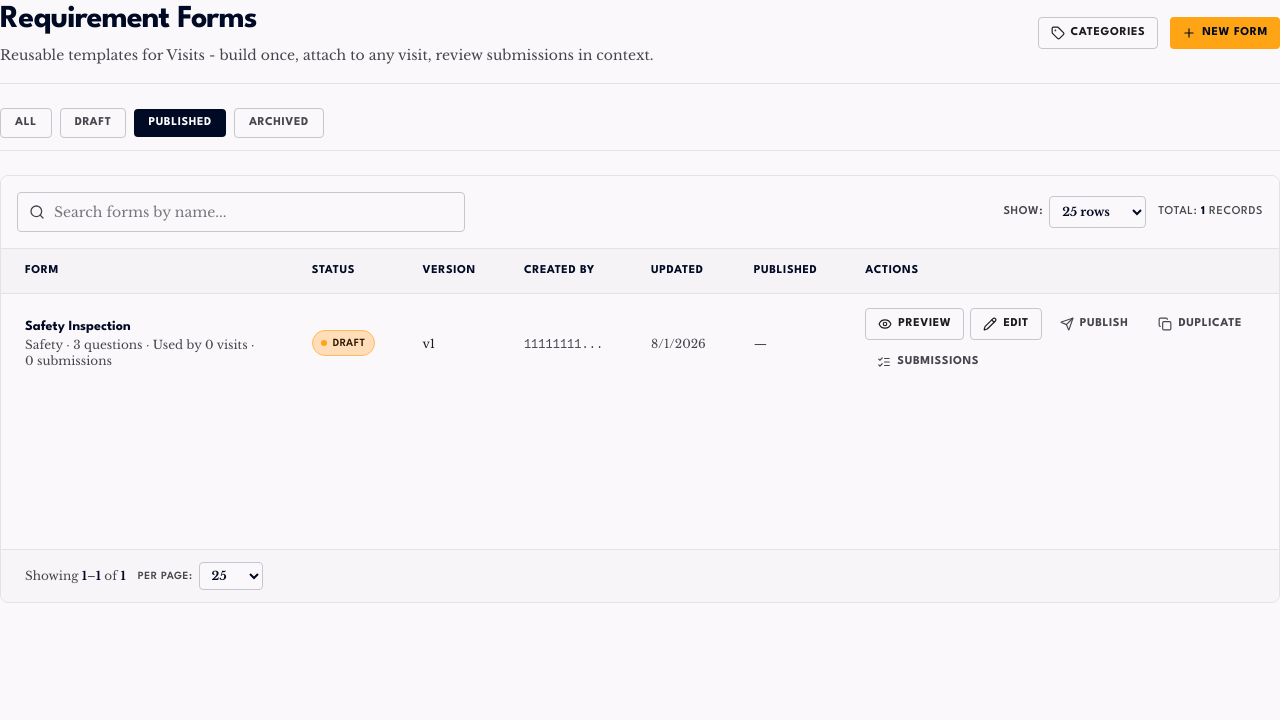
it: FormsPage - Form Template Management › creates a new category from the categories modal
The image size is (1280, 720).
Expected: the text "Safety Inspection" is shown, [25,320,131,333]
Click the button "Categories".
click(1098, 33)  # box [1038,17,1158,49]
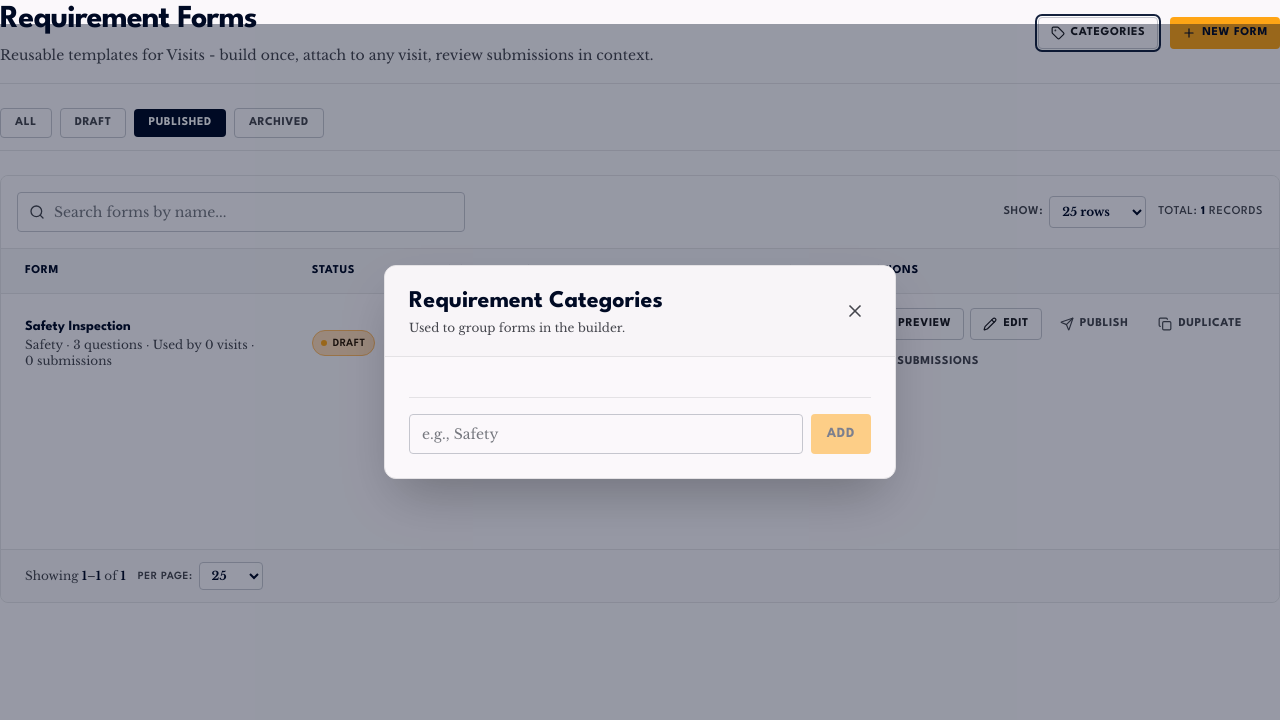
Expected: the heading "Requirement Categories" is shown, [409,286,663,318]
Type "New Category" into the field with placeholder "e.g., Safety".
click(606, 434); type("New Category")  # box [409,414,803,454]
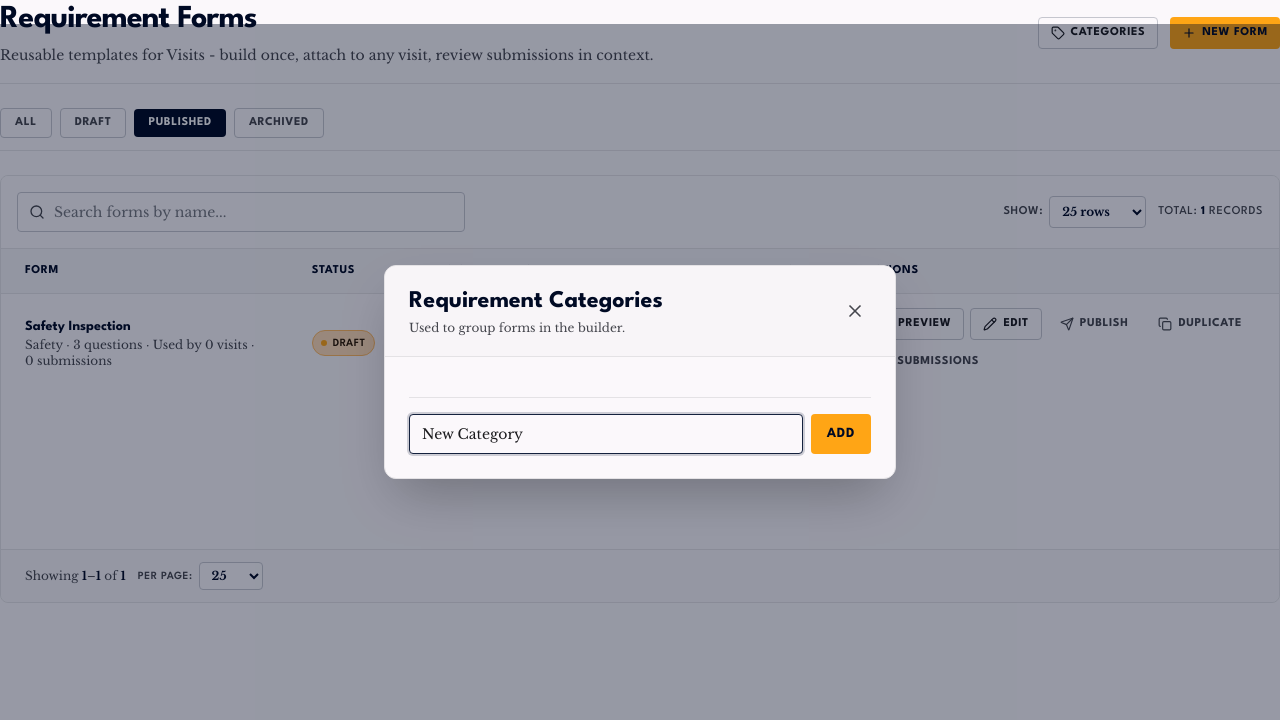
Click the button "Add".
click(841, 434)  # box [811,414,871,454]
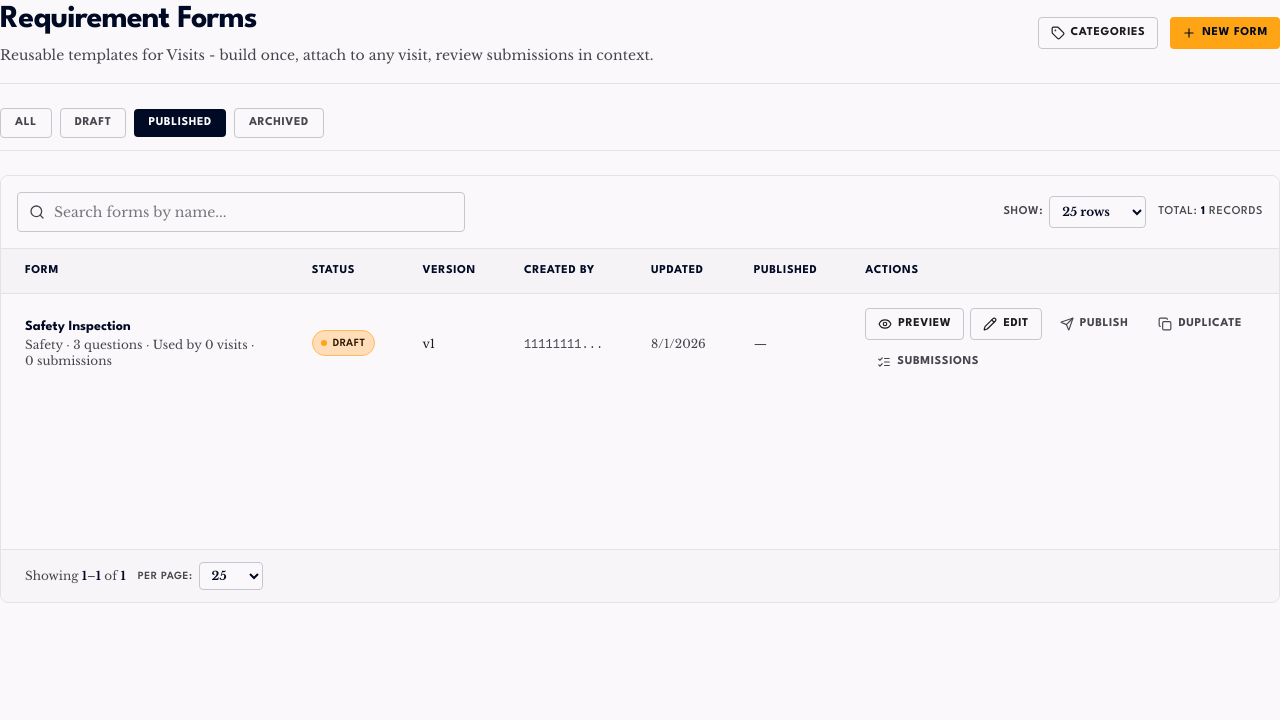
Expected: the heading "Requirement Categories" is gone
